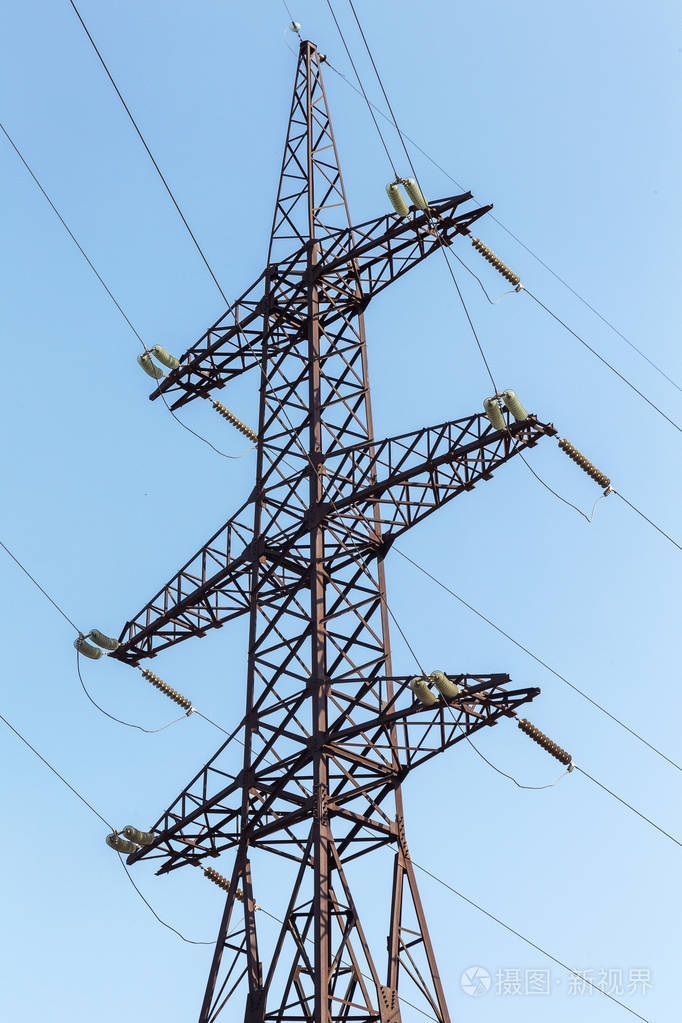insulator: (469, 238, 525, 289), (556, 439, 608, 492), (515, 719, 573, 763), (212, 397, 261, 444), (141, 668, 192, 713), (384, 176, 427, 221), (484, 391, 526, 433), (202, 860, 246, 898), (409, 672, 459, 705), (104, 826, 159, 855), (136, 343, 177, 378), (72, 629, 116, 659)
